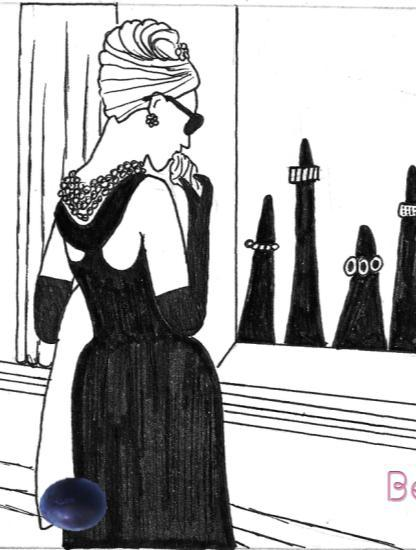Plum: (37, 469, 108, 540)
